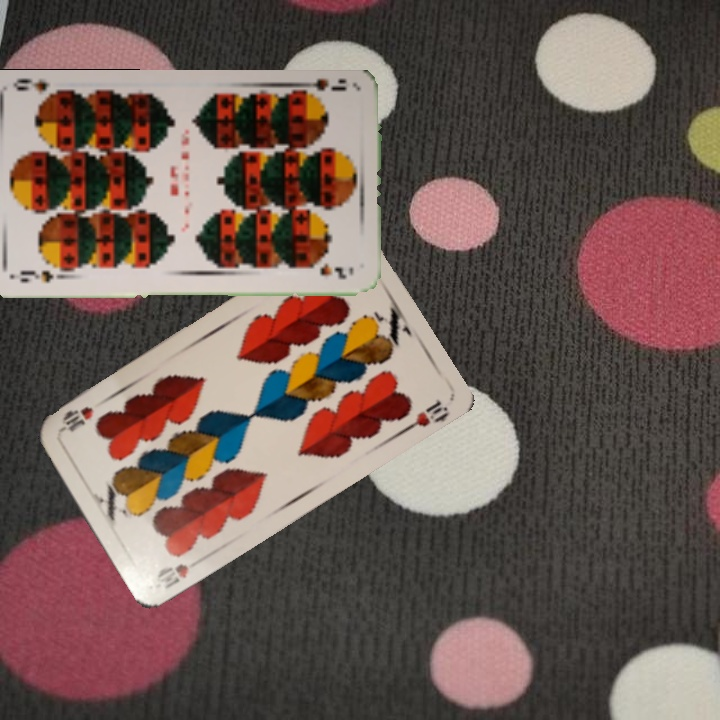H10: (151, 559, 192, 592)
S9: (299, 77, 350, 104), (15, 262, 67, 284)
